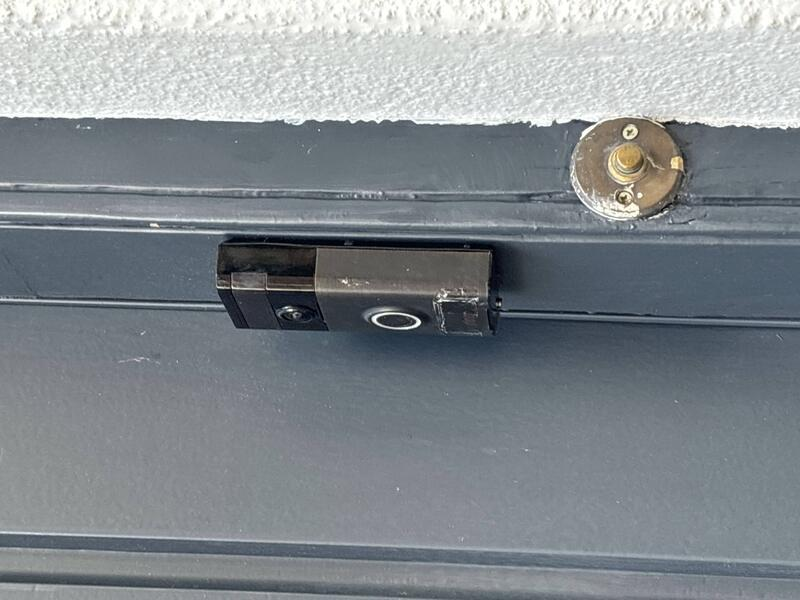doorbell: (258, 215, 365, 503)
